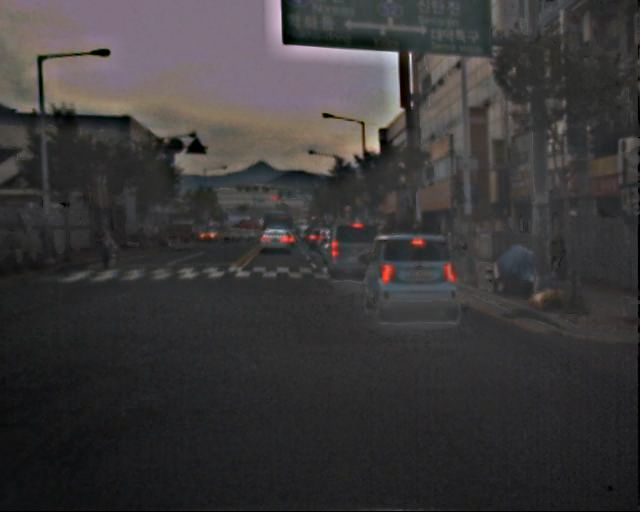person: (96, 228, 117, 272)
